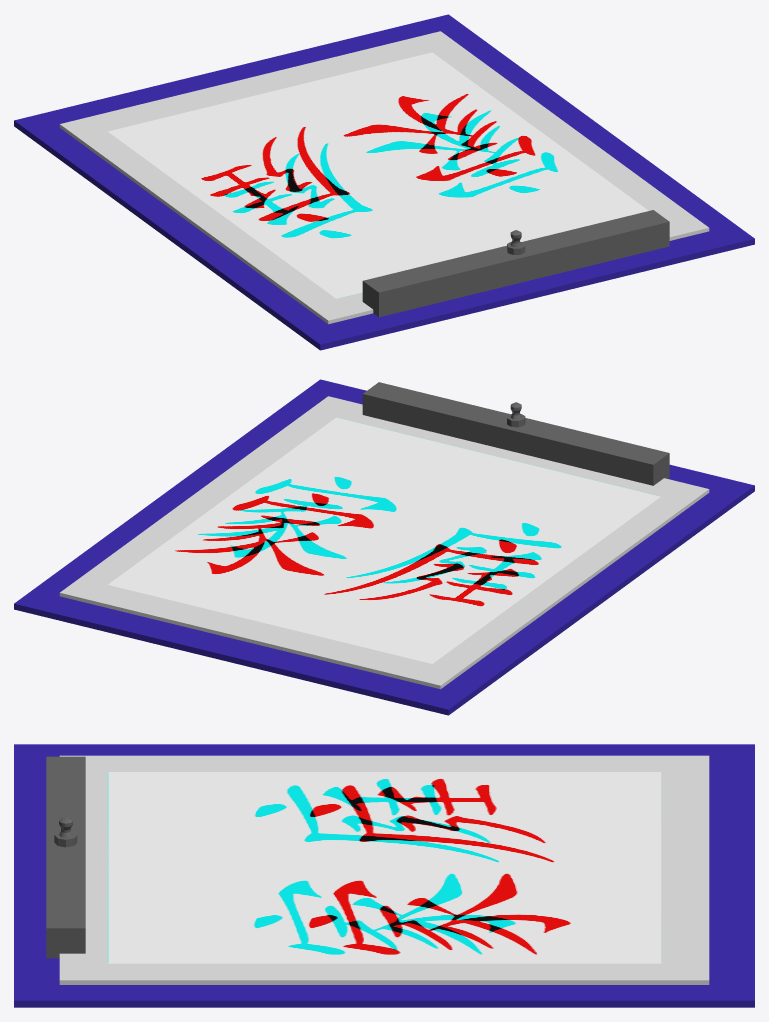
Rendered from SM_CalligraphOnPaper.fbx.
3 views of the same model, one above another, from view 1: azimuth 30°, elevation 25°; view 2: azimuth 150°, elevation 25°; view 3: azimuth 270°, elevation 25° (orthographic). The views are drawn at different scales.
Parts seen in each view (by area): view 1: Kanji, FeltSurface, Paper, PaperWeight; view 2: Kanji, FeltSurface, Paper, PaperWeight; view 3: Kanji, FeltSurface, Paper, PaperWeight.
Boxes of the visible parts, x1=… form: Kanji: x1=108, y1=52, x2=648, y2=298; FeltSurface: x1=14, y1=14, x2=754, y2=350; Paper: x1=59, y1=31, x2=709, y2=324; PaperWeight: x1=362, y1=210, x2=669, y2=317; Kanji: x1=108, y1=417, x2=660, y2=663; FeltSurface: x1=14, y1=379, x2=754, y2=715; Paper: x1=59, y1=396, x2=709, y2=689; PaperWeight: x1=362, y1=382, x2=669, y2=485; Kanji: x1=107, y1=772, x2=661, y2=963; FeltSurface: x1=14, y1=744, x2=754, y2=1007; Paper: x1=59, y1=755, x2=709, y2=984; PaperWeight: x1=46, y1=756, x2=85, y2=958.
Bounding box in the file's own units: 0.679 × 0.0775 × 0.8291.
